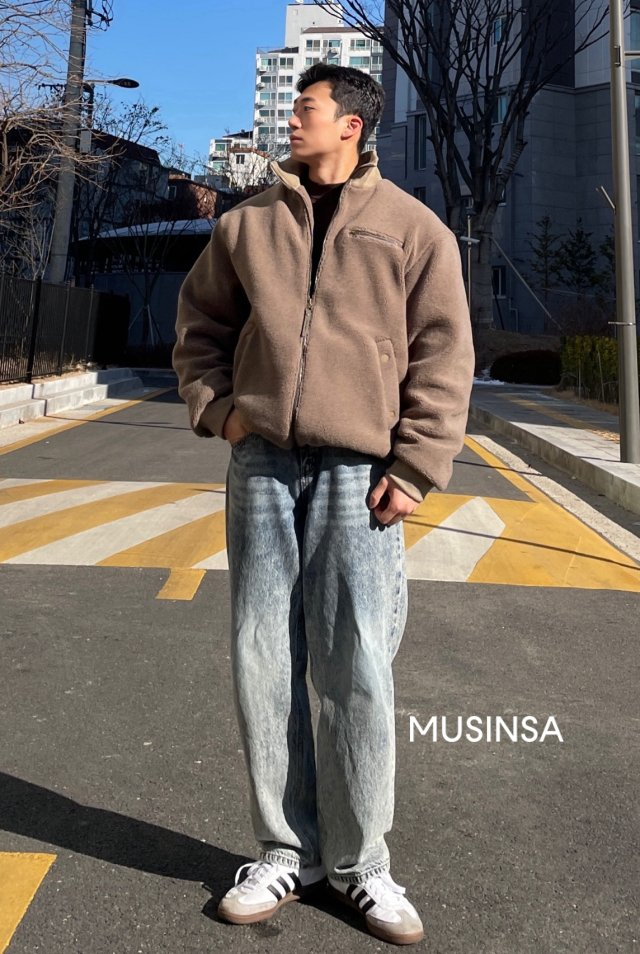Jeans: (209, 433, 414, 884)
Outer: (155, 148, 480, 472)
Shoes: (196, 842, 443, 944)
